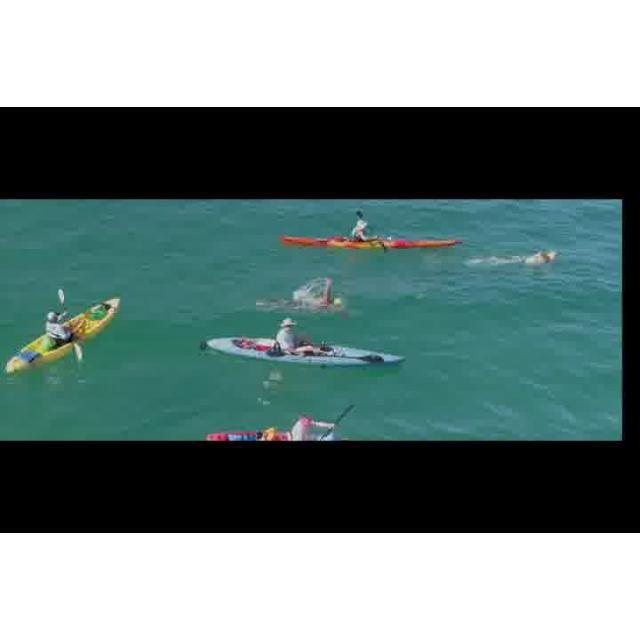human: (289, 283, 351, 318)
